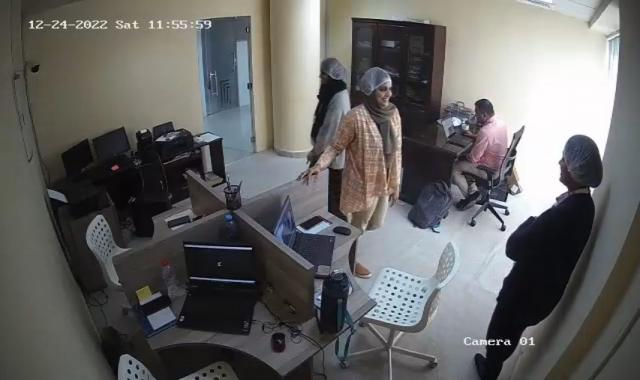hairnet: (556, 133, 603, 193), (361, 66, 393, 111), (316, 56, 345, 92)
no_hairnet: (472, 96, 494, 126)
